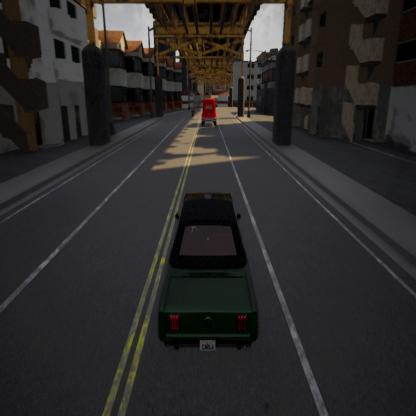Cars: (158, 185, 264, 363), (196, 96, 220, 125)
